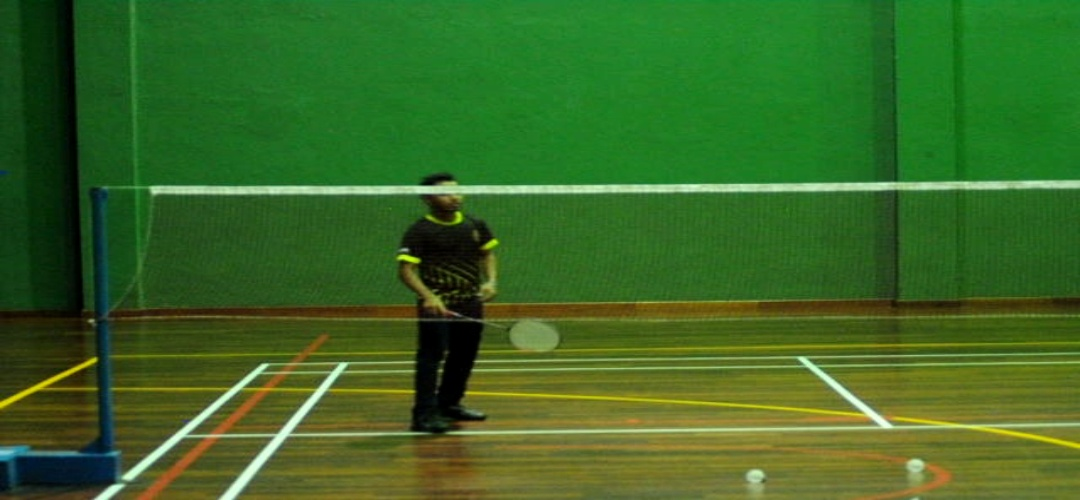c1: (268, 426, 299, 446)
c2: (875, 416, 904, 441)
player: (394, 175, 503, 436)
